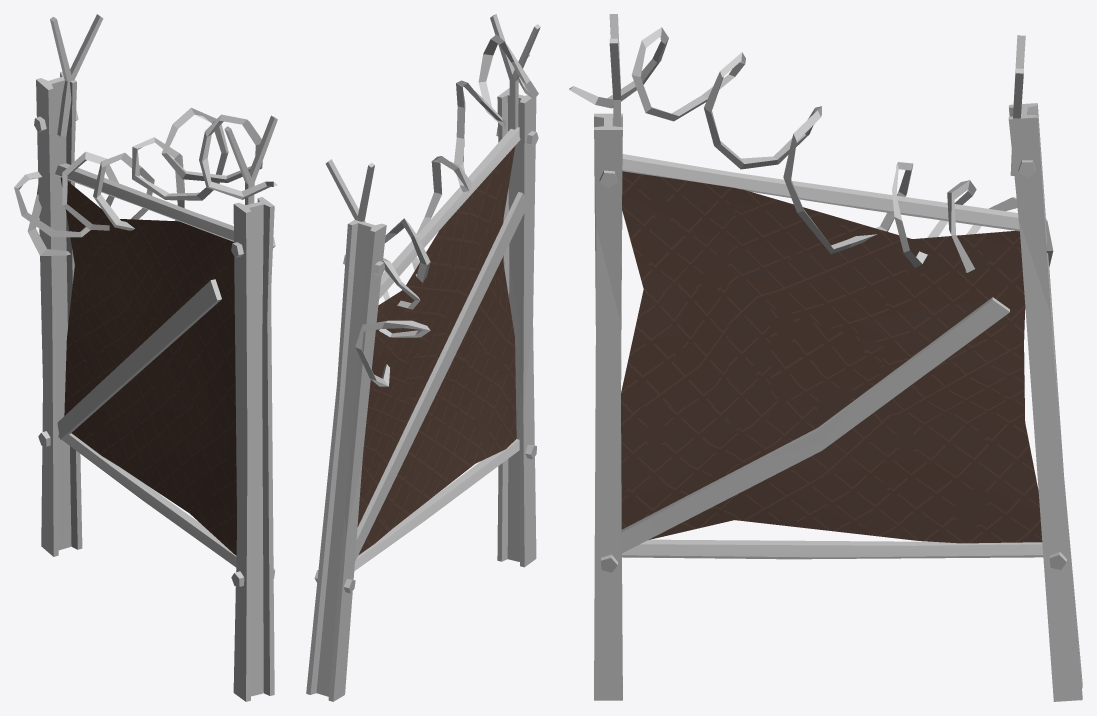
Rendered from SM_Prop_Wall_Wire_Damaged_01.fbx.
3 views of the same model, side by side, from view 1: azimuth 30°, elevation 25°; view 2: azimuth 150°, elevation 25°; view 3: azimuth 270°, elevation 25° (orthographic). The views are drawn at different scales.
Parts seen in each view (by area): view 1: SM_Prop_Wall_Wire_Damaged_01; view 2: SM_Prop_Wall_Wire_Damaged_01; view 3: SM_Prop_Wall_Wire_Damaged_01.
Boxes of the visible parts, <box> form: SM_Prop_Wall_Wire_Damaged_01: <box>14,14,277,701</box>; SM_Prop_Wall_Wire_Damaged_01: <box>306,14,540,701</box>; SM_Prop_Wall_Wire_Damaged_01: <box>569,14,1082,701</box>.
Bounding box in the file's own units: 58.38 × 333 × 233.
